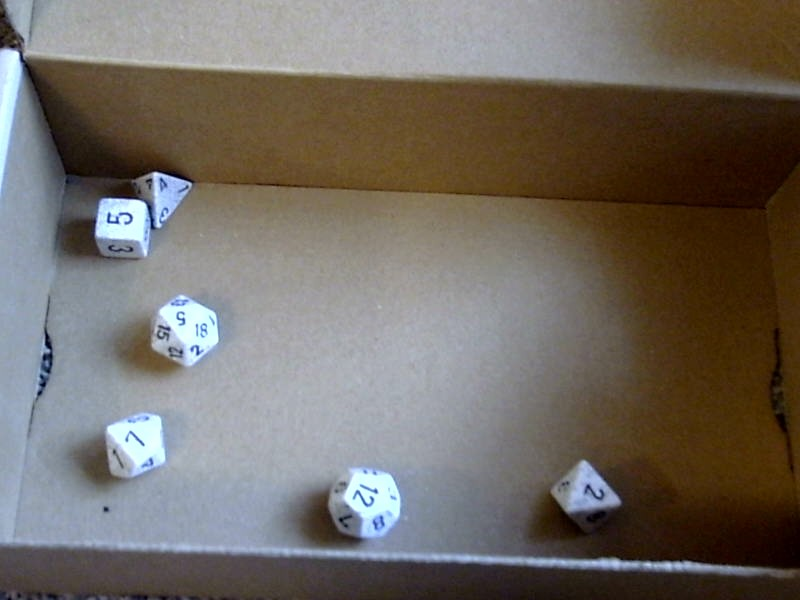d10 7: (94, 408, 171, 491)
d12 12: (318, 456, 407, 544)
d20 5: (142, 291, 224, 375)
d4 4: (134, 161, 202, 227)
d6 5: (80, 200, 149, 271)
d8 2: (545, 452, 629, 540)
